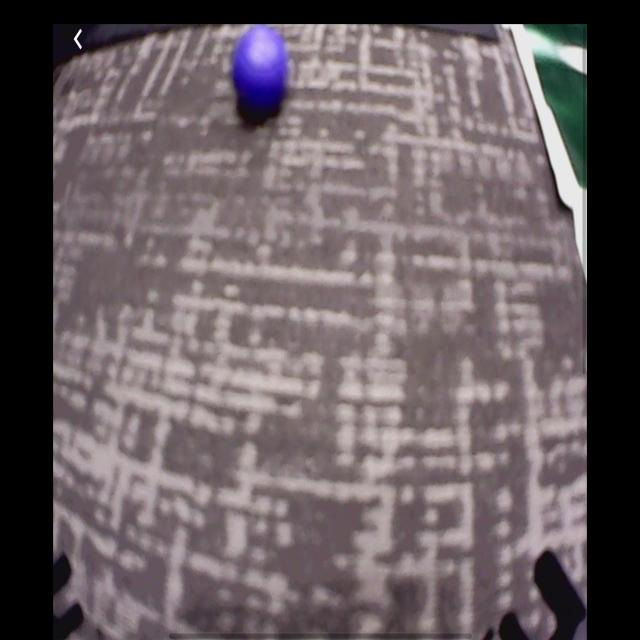ball: (234, 25, 287, 111)
